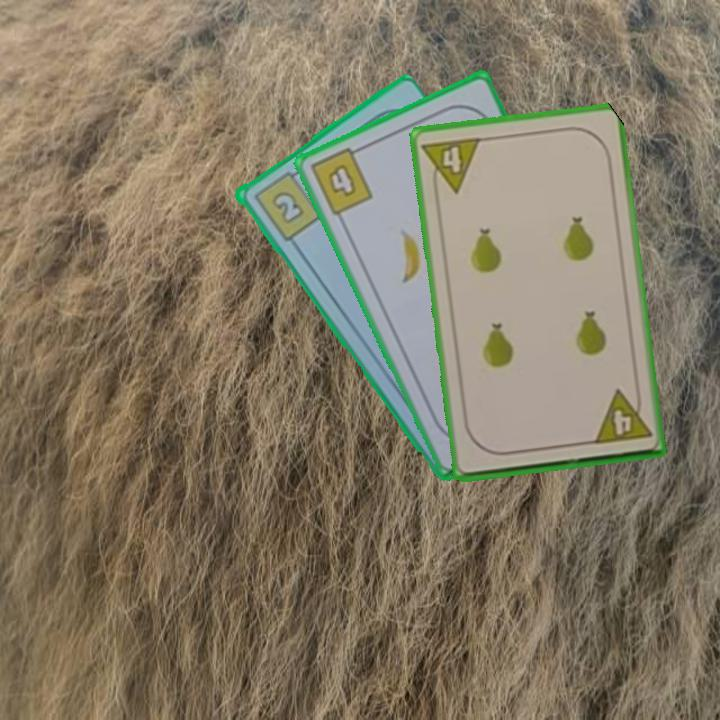2b: (249, 164, 323, 244)
4b: (306, 142, 376, 219)
4p: (418, 133, 484, 198), (589, 385, 654, 447)
